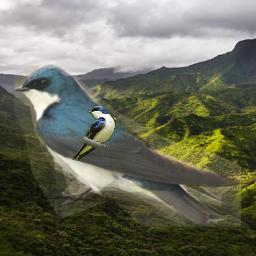Swallow: (14, 64, 241, 227), (72, 105, 118, 161)
